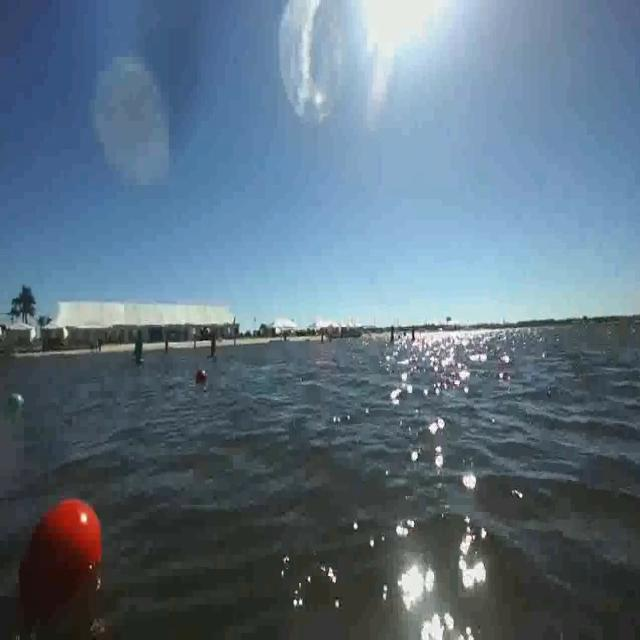black-buoy: (197, 367, 208, 383)
green-buoy: (8, 393, 22, 412)
green-column-buoy: (134, 330, 146, 365)
red-buoy: (15, 492, 114, 631)
